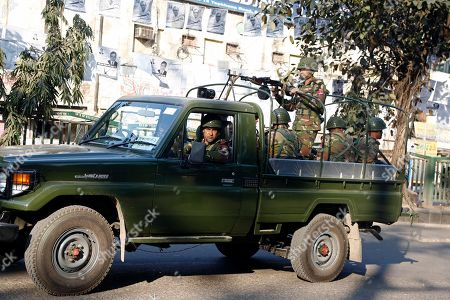army vehicle: (1, 84, 409, 297)
